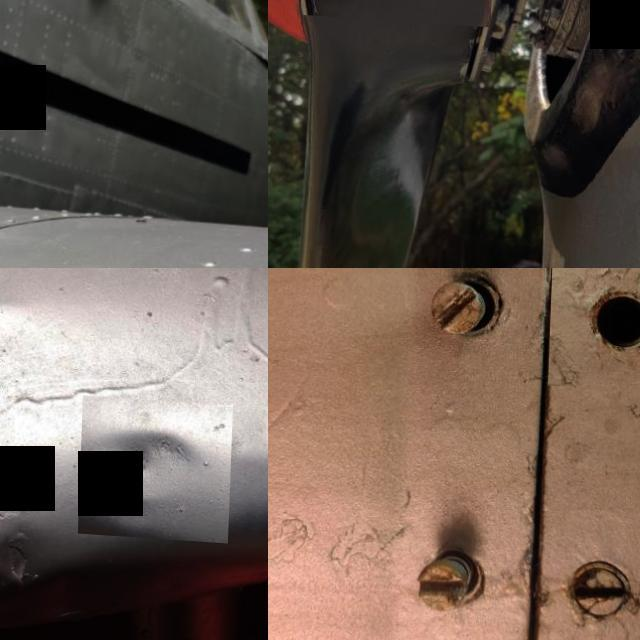Crack: (302, 0, 495, 21)
Dent: (81, 392, 236, 538), (0, 497, 81, 609)
Missing_Fastener: (550, 268, 640, 387)
